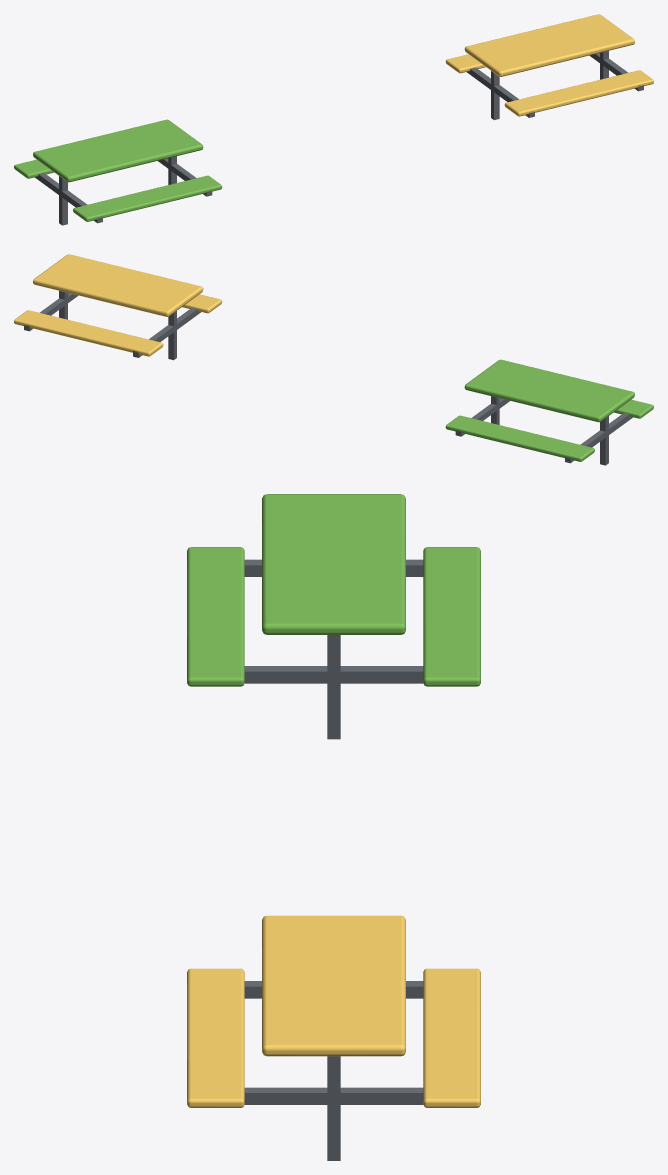
File: kbench-picnic.glb
3 renders of one model, top to bottom at view 1: azimuth 30°, elevation 25°; view 2: azimuth 150°, elevation 25°; view 3: azimuth 270°, elevation 25°, orthographic. The views are drawn at different scales.
Size of the model in its own units: 5 by 0.525 by 1.12.
